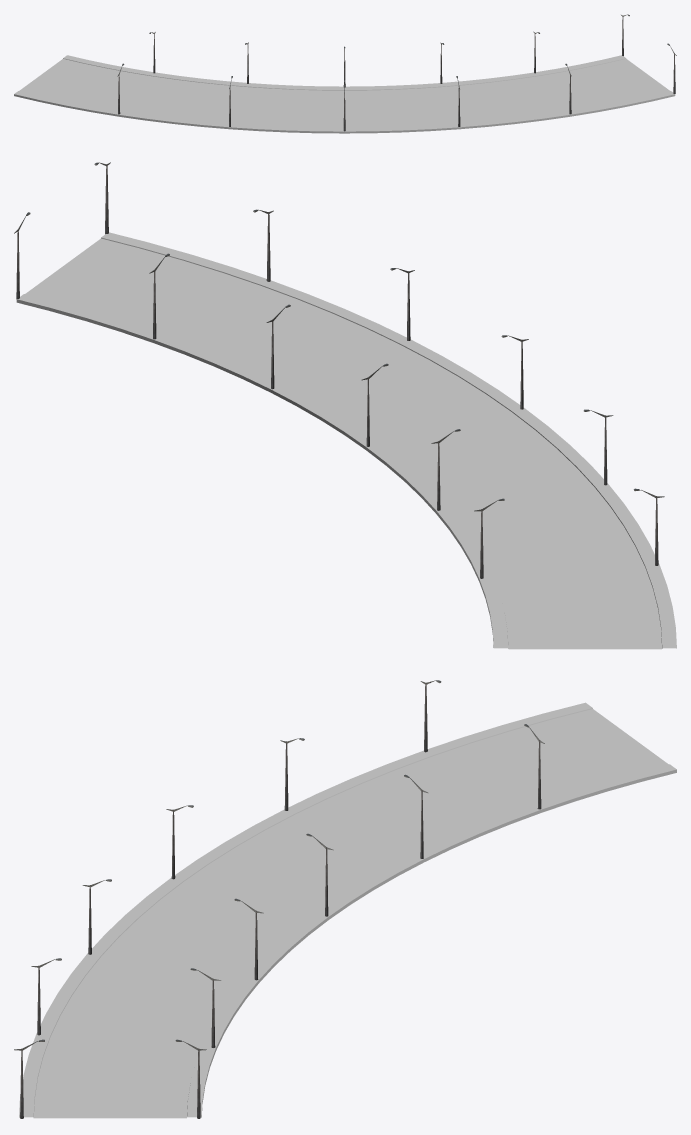
Rendered from Big_Road_60.FBX.
The picture shows the model from 3 angles, top to bottom: view 1: azimuth 30°, elevation 25°; view 2: azimuth 150°, elevation 25°; view 3: azimuth 270°, elevation 25°; orthographic projection. The views are drawn at different scales.
Parts seen in each view (by area): view 1: Big_Road_60, city_light011; view 2: Big_Road_60, city_light011; view 3: Big_Road_60, city_light011.
Part boxes in pixels (x1=…): Big_Road_60: x1=14, y1=55, x2=675, y2=133; city_light011: x1=117, y1=14, x2=676, y2=131; Big_Road_60: x1=16, y1=232, x2=676, y2=649; city_light011: x1=14, y1=162, x2=664, y2=578; Big_Road_60: x1=19, y1=702, x2=676, y2=1118; city_light011: x1=14, y1=680, x2=544, y2=1118.
Bounding box in the file's own units: 122 × 82.3 × 11.04.
